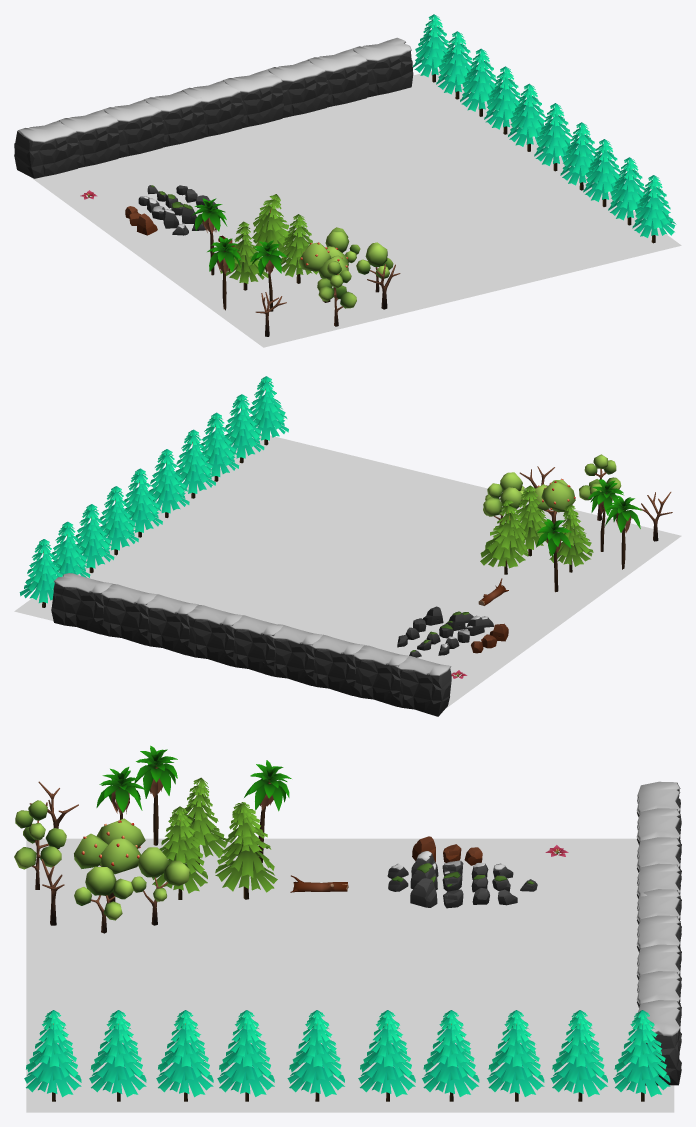
Rendered from my-world.glb.
3 views of the same model, one above another, from view 1: azimuth 30°, elevation 25°; view 2: azimuth 150°, elevation 25°; view 3: azimuth 270°, elevation 25° (orthographic). The views are drawn at different scales.
Visible parts, largest first — view 1: Plane, ClifBi1.003, ClifBi1.009, ClifBi1.011, ClifBi1.001, ClifBi1.005, ClifBi1.002, ClifBi1.010, ClifBi1, ClifBi1.004, TreeVC.009, TreeVC.005 (+18 smaller); view 2: Plane, ClifBi1.003, ClifBi1.009, ClifBi1.005, ClifBi1.002, ClifBi1.010, ClifBi1.001, ClifBi1.011, ClifBi1.004, ClifBi1, TreeV2, TreeVC.006 (+18 smaller); view 3: Plane, TreeV2, TreeVC.003, TreeVC.005, TreeVC.001, TreeVC.002, TreeVC.006, TreeVC, TreeVC.004, TreeVC.008, TreeVC.007, TreeVC.009 (+20 smaller).
Part boxes in pixels (x1,y1,x2,y2): Plane: (30, 69, 681, 347); ClifBi1.003: (14, 119, 79, 178); ClifBi1.009: (352, 37, 413, 97); ClifBi1.011: (268, 58, 328, 117); ClifBi1.001: (104, 98, 164, 157); ClifBi1.005: (222, 69, 283, 127); ClifBi1.002: (58, 109, 119, 167); ClifBi1.010: (307, 48, 368, 107); ClifBi1: (143, 88, 204, 147); ClifBi1.004: (181, 79, 243, 137); TreeVC.009: (632, 175, 676, 243); TreeVC.005: (534, 103, 572, 171); Plane: (14, 433, 681, 708); ClifBi1.003: (388, 655, 451, 716); ClifBi1.009: (51, 573, 112, 634); ClifBi1.005: (184, 605, 242, 666); ClifBi1.002: (350, 645, 408, 706); ClifBi1.010: (98, 584, 156, 645); ClifBi1.001: (303, 634, 364, 695); ClifBi1.011: (137, 594, 198, 655); ClifBi1.004: (223, 615, 283, 676); ClifBi1: (262, 624, 322, 685); TreeV2: (480, 499, 528, 574); TreeVC.006: (175, 429, 215, 498); Plane: (26, 838, 674, 1112); TreeV2: (215, 802, 277, 899); TreeVC.003: (422, 1010, 479, 1101); TreeVC.005: (287, 1010, 344, 1101); TreeVC.001: (550, 1010, 607, 1101); TreeVC.002: (487, 1010, 544, 1101); TreeVC.006: (217, 1010, 274, 1101); TreeVC: (613, 1010, 670, 1101); TreeVC.004: (358, 1010, 415, 1101); TreeVC.008: (89, 1010, 146, 1101); TreeVC.007: (156, 1010, 213, 1101); TreeVC.009: (24, 1010, 81, 1101).
Size of the model in its own units: 69.85 by 11.89 by 70.53.
18 materials, 18 textured.
